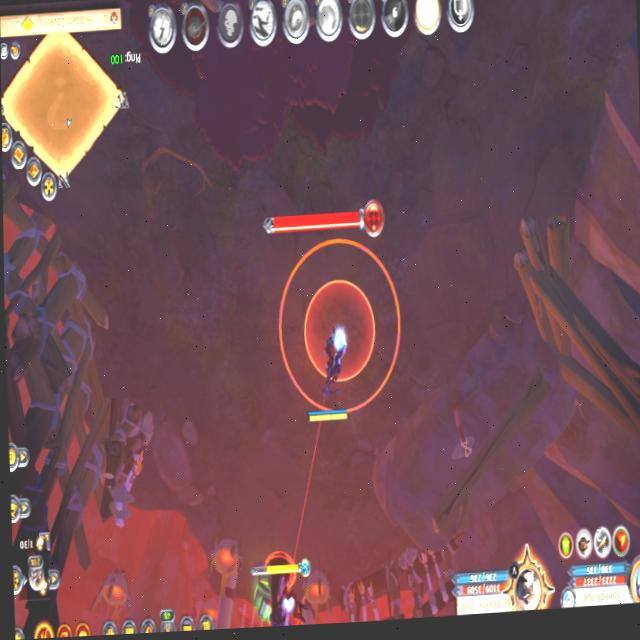ore: (255, 548, 306, 627)
red: (279, 238, 400, 412), (304, 280, 374, 373), (304, 319, 353, 426)
silver: (278, 240, 399, 411)
